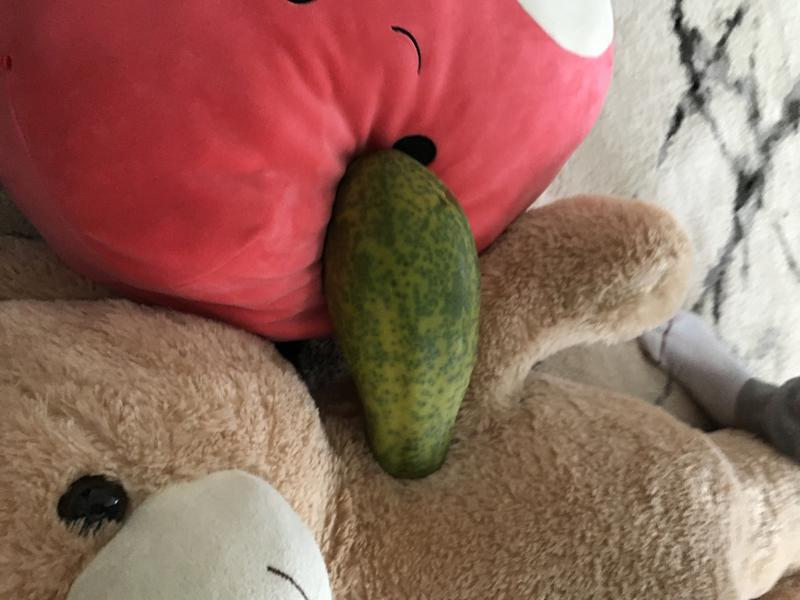papaya: (311, 140, 489, 490)
